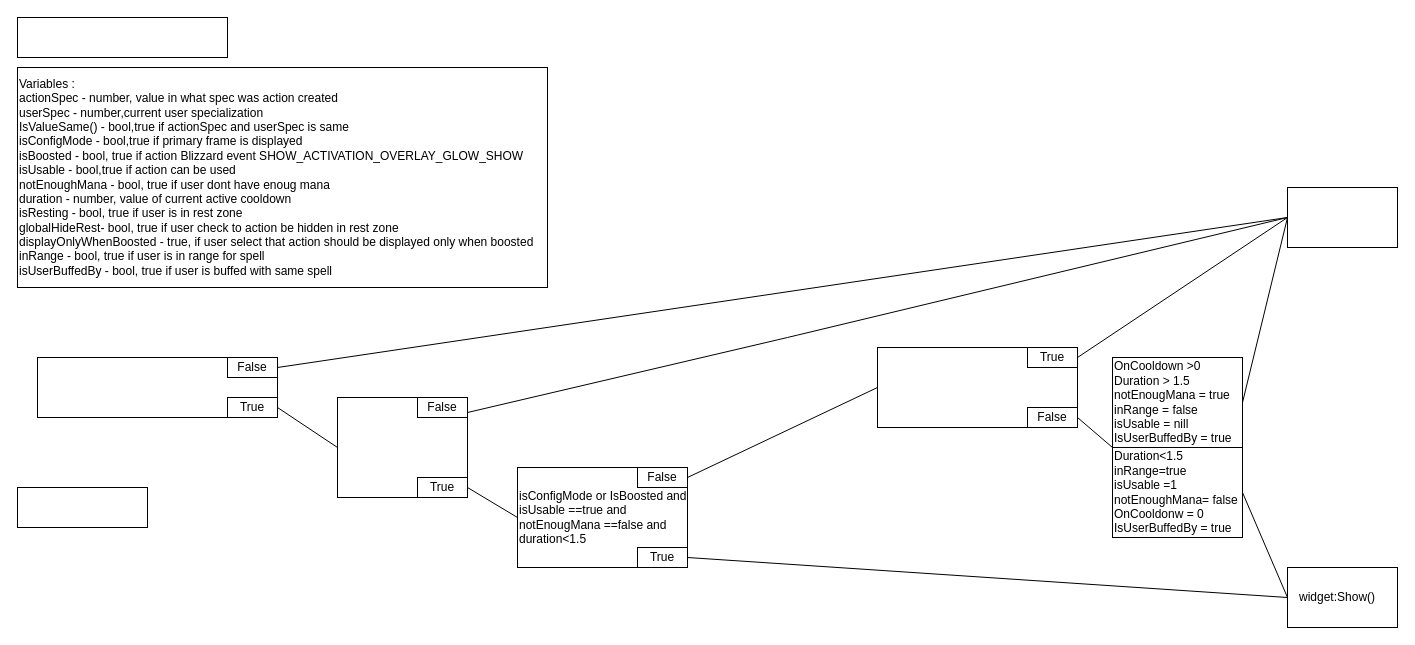
Some shapes in this 1415 by 645 pixel diagram are drawn without their labels. Each missing label, with the box of its shape:
globalHideRest = true isResting = true configModeFalse: (336, 396, 468, 498)
isResting and globalHideRest or displayOnlyWhenBoosted: (876, 346, 1078, 428)
UI:IsValueSame(actionSpec,userSpec): (36, 356, 278, 418)
v - 0.9.9: (16, 486, 148, 528)
Widget display logic for SmartBars: (16, 16, 228, 58)
widget:Hide(): (1286, 186, 1398, 248)
